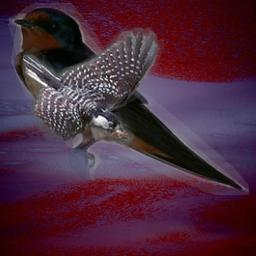Swallow: (7, 3, 249, 195)
Woodpecker: (23, 27, 164, 145)
